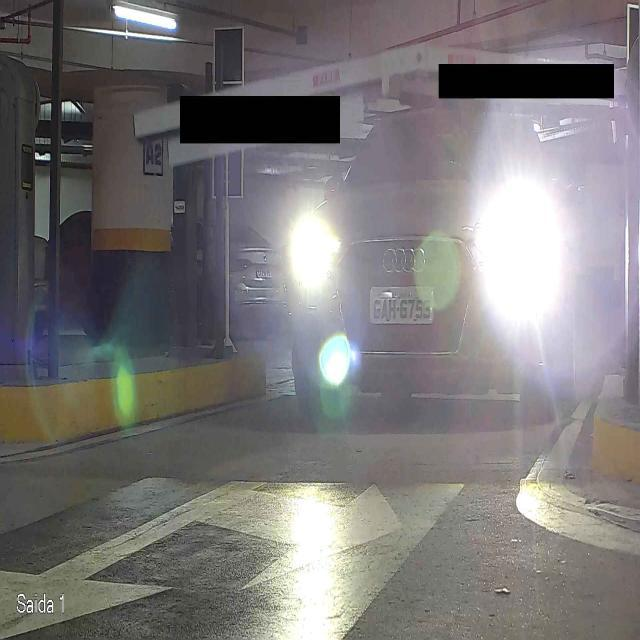old_plate: (368, 285, 435, 326)
